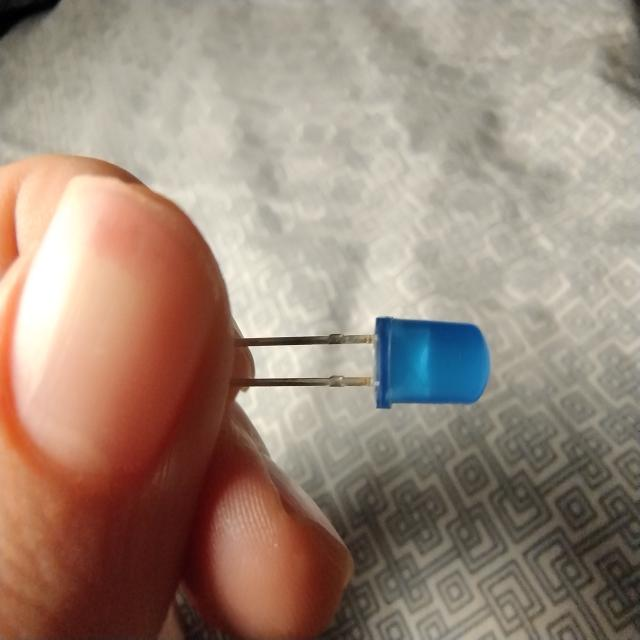blue_led: (373, 314, 491, 410)
